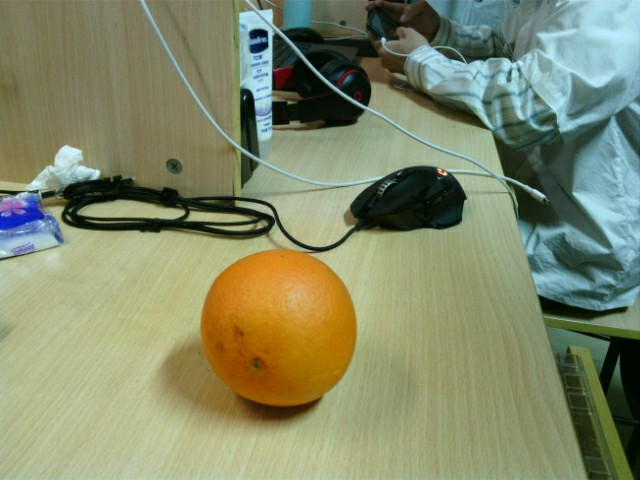normal_orange: (200, 249, 358, 404)
